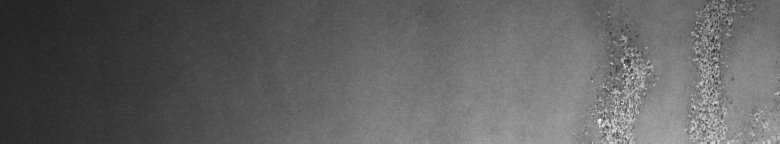hc: (584, 4, 775, 136)
